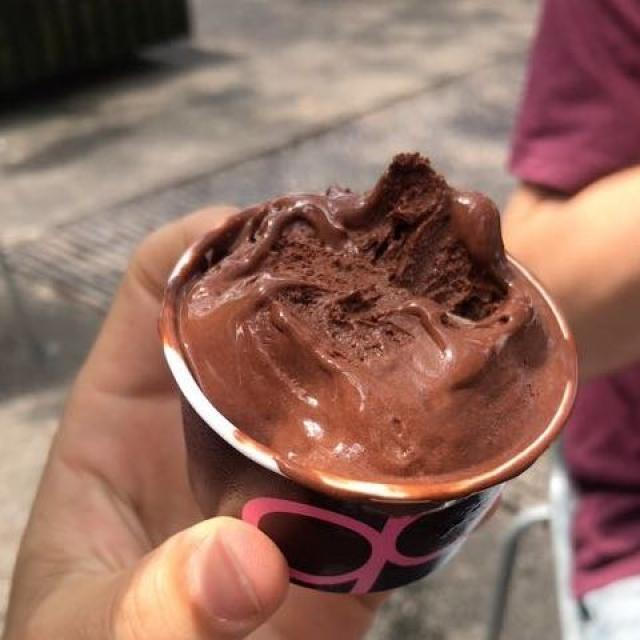ice-cream: (177, 155, 547, 471)
